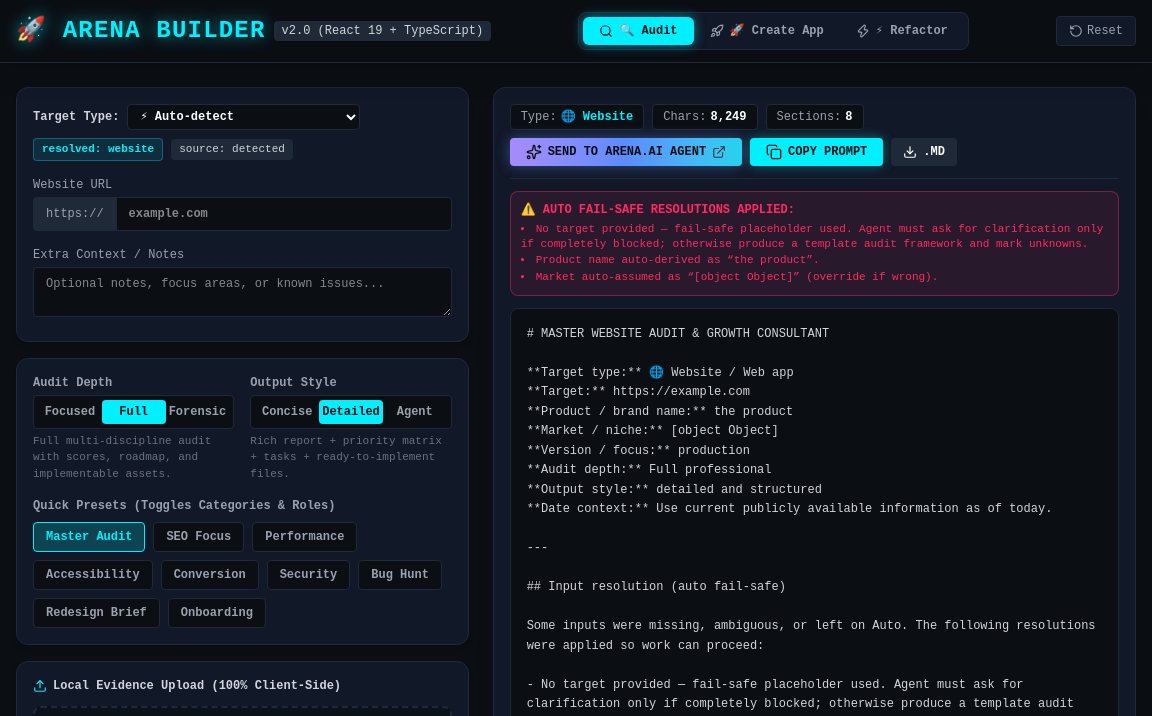
Scenario: Arena Builder React 19 UI Regression Suite › switches between Audit, Create App, and Refactor modes without errors
Expected: the text "Website URL" is shown, top-left (33, 178), bottom-right (112, 192)
Note: Click Create App mode
Click the button "🚀 Create App" at (767, 31), box top-left (694, 17), bottom-right (840, 45)
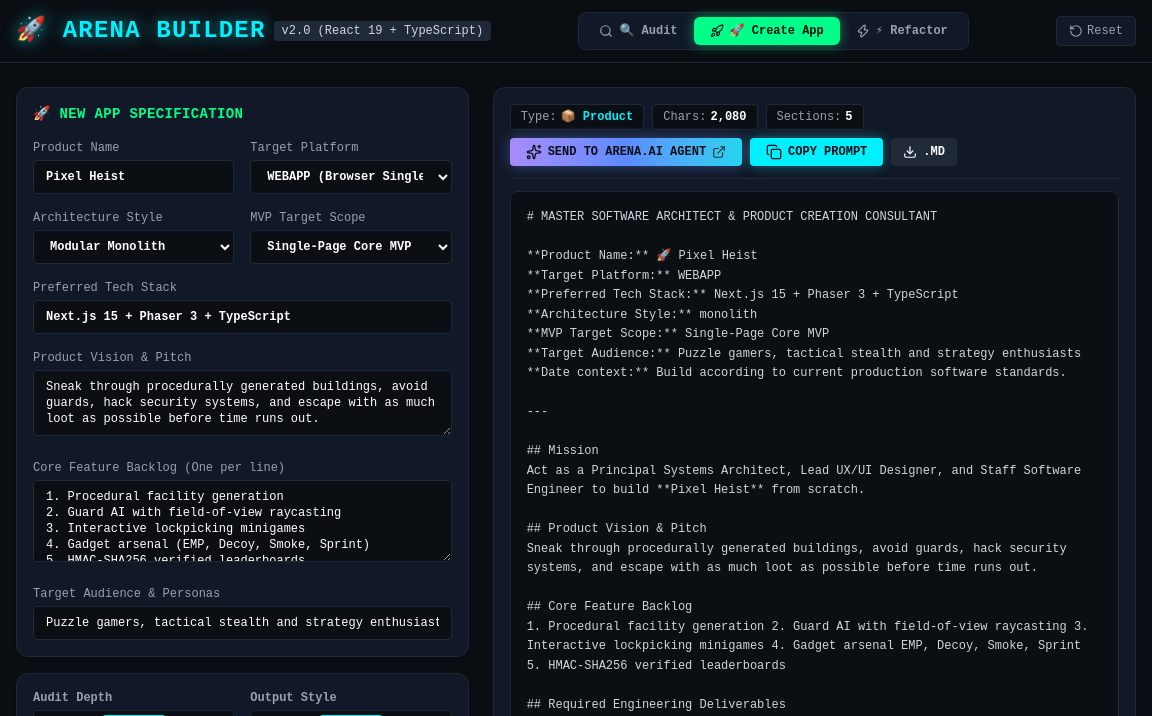
Expected: the text "🚀 NEW APP SPECIFICATION" is shown, top-left (33, 104), bottom-right (243, 124)
Note: Click Refactor mode
Click the button "⚡ Refactor" at (902, 31), box top-left (840, 17), bottom-right (964, 45)
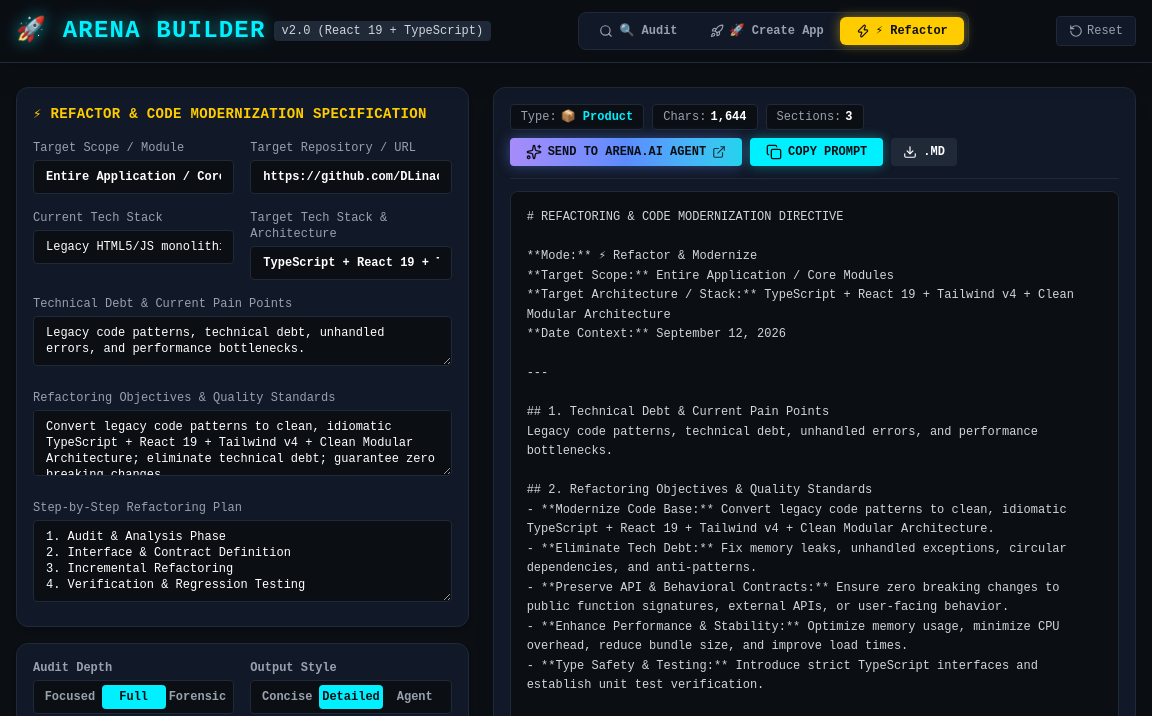
Expected: the text "⚡ REFACTOR & CODE MODERNIZATION SPECIFICATION" is shown, top-left (33, 104), bottom-right (427, 124)
